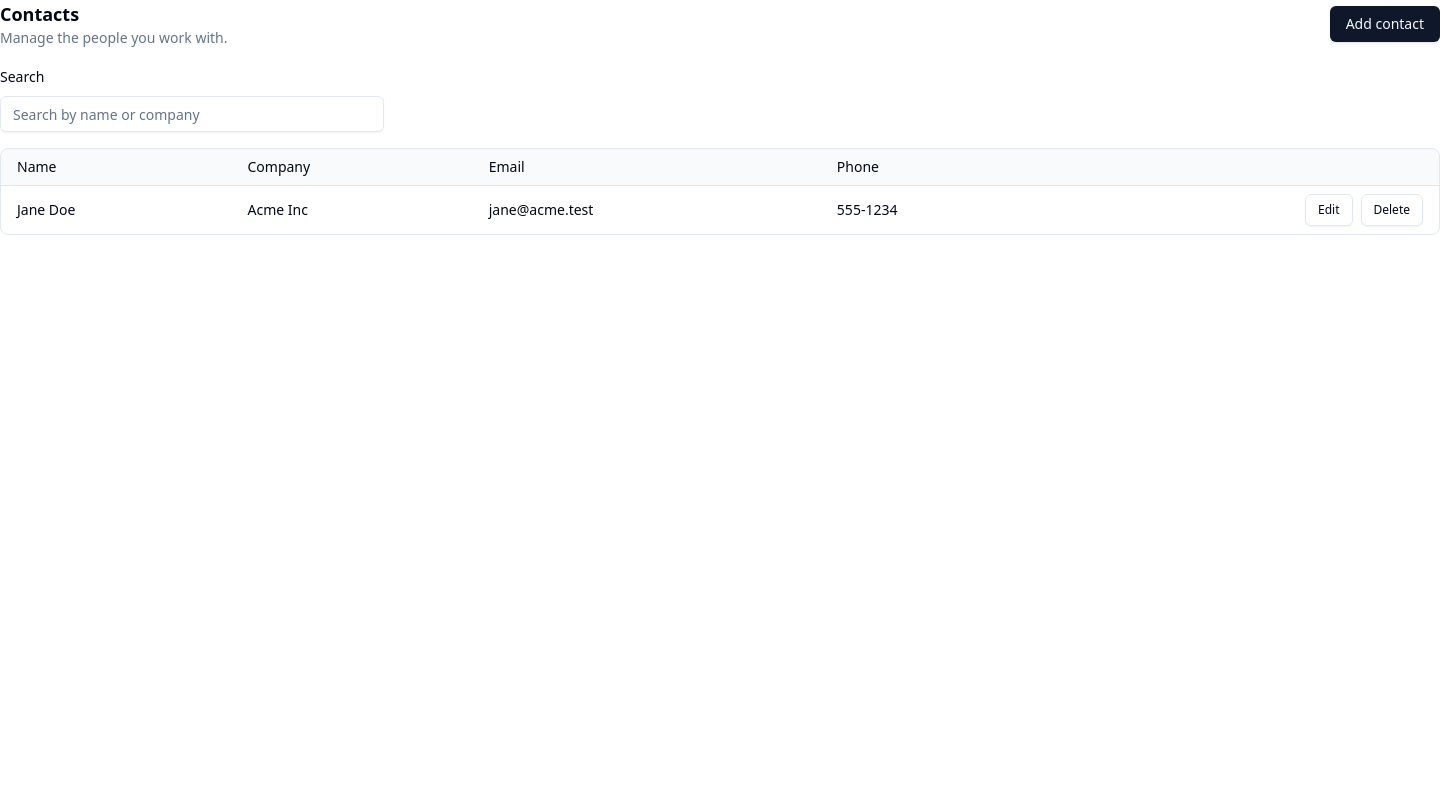
it: ContactsPage › opens a contact's detail view showing all its fields, including notes
Click the button "Jane Doe" at [46, 210], box top-left (17, 200), bottom-right (76, 220)
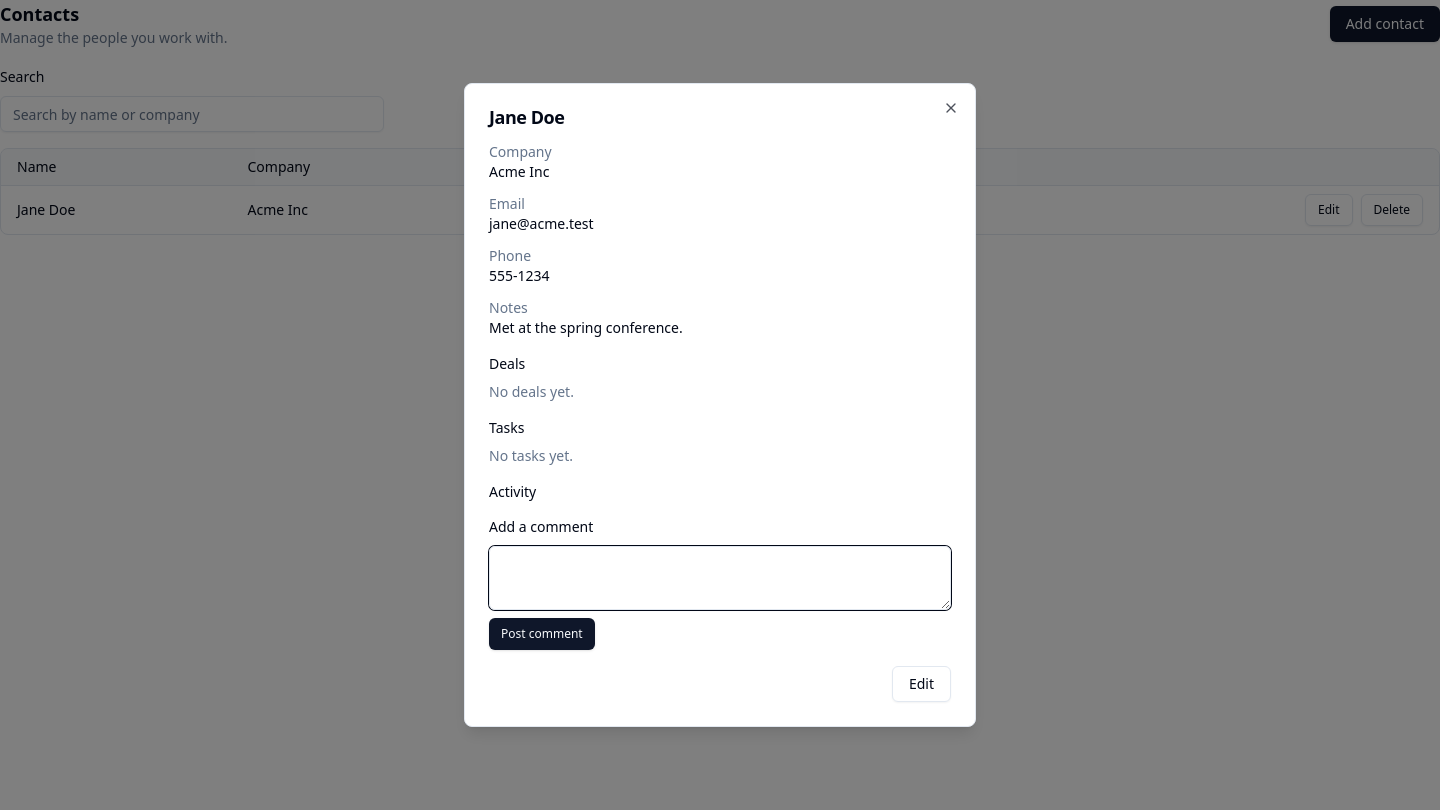
Check: the heading "Jane Doe" is shown, box top-left (489, 105), bottom-right (564, 129)
Check: the text "Acme Inc" is shown, box top-left (489, 162), bottom-right (549, 181)
Check: the text "jane@acme.test" is shown, box top-left (489, 214), bottom-right (594, 233)
